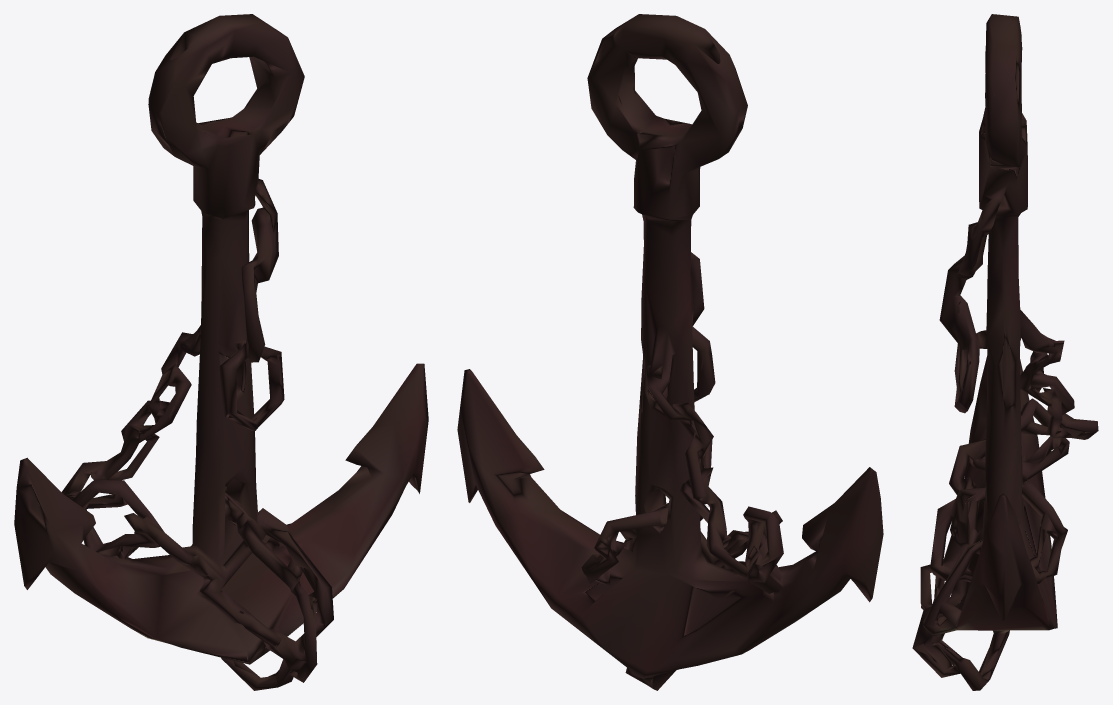
The model's file is gen3d-sunken-anchor-lod0.glb.
3 renders of one model, left to right at view 1: azimuth 30°, elevation 25°; view 2: azimuth 150°, elevation 25°; view 3: azimuth 270°, elevation 25°, orthographic. The views are drawn at different scales.
Parts seen in each view (by area): view 1: part_0; view 2: part_0; view 3: part_0.
Part boxes in pixels (x1,y1,x2,y2): part_0: (14, 14, 428, 690); part_0: (457, 14, 883, 690); part_0: (912, 14, 1098, 690).
Bounding box in the file's own units: 0.6499 × 0.9986 × 0.2591.
